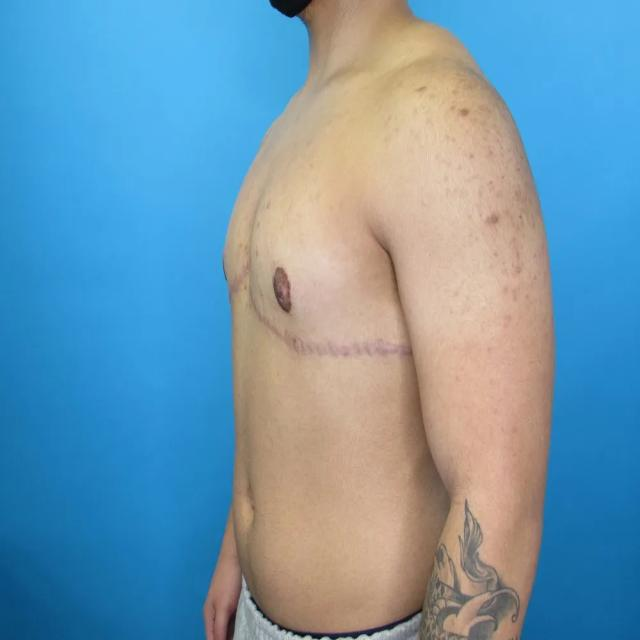Seno herido: (248, 226, 416, 370), (217, 202, 249, 308)
